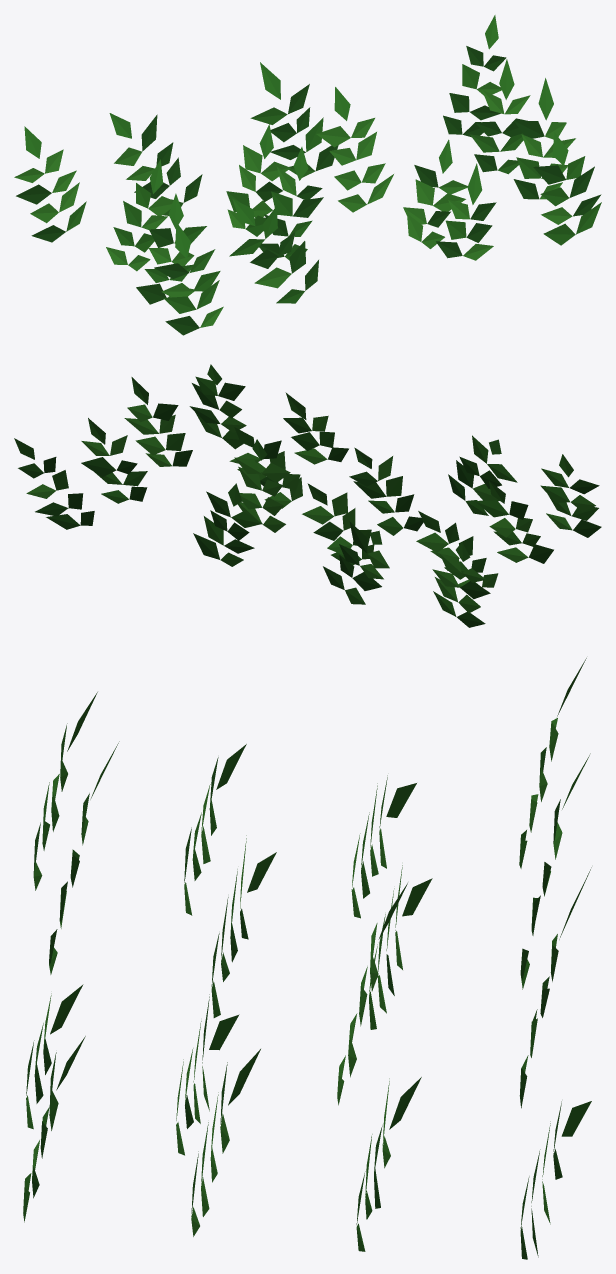
The picture shows the model from 3 angles, top to bottom: view 1: azimuth 30°, elevation 25°; view 2: azimuth 150°, elevation 25°; view 3: azimuth 270°, elevation 25°; orthographic projection. The views are drawn at different scales.
Visible parts, largest first — view 1: r13c4_l00; view 2: r13c4_l00; view 3: r13c4_l00.
Boxes of the visible parts, x1=… form: r13c4_l00: x1=14, y1=15, x2=601, y2=335; r13c4_l00: x1=14, y1=364, x2=601, y2=627; r13c4_l00: x1=23, y1=658, x2=591, y2=1259.
Size of the model in its own units: 2.16 by 0.5273 by 1.13.
